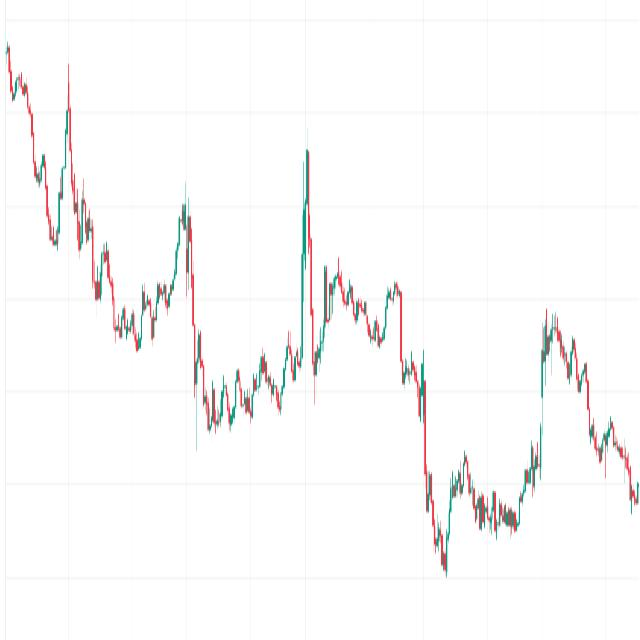Rounding-Bottom: (68, 144, 188, 367), (191, 232, 306, 445)
